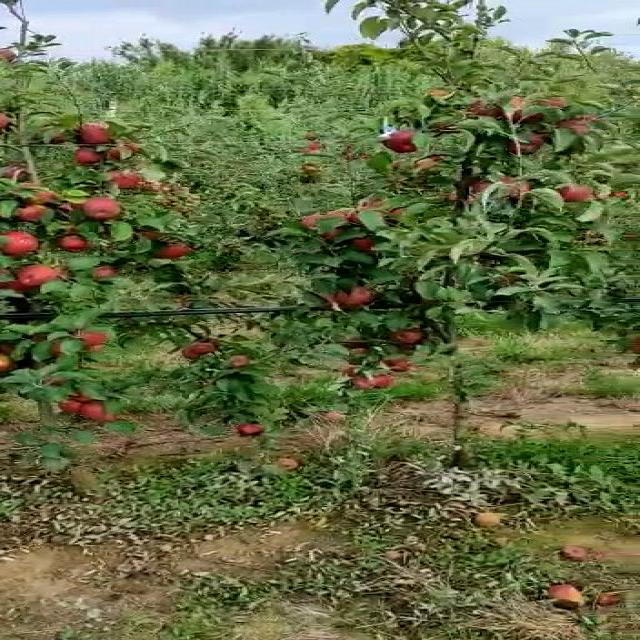100-_ripeness: (11, 263, 58, 288), (478, 177, 536, 197), (349, 368, 398, 391), (498, 98, 542, 123), (80, 323, 122, 348), (2, 229, 40, 256), (80, 398, 122, 421), (382, 128, 424, 151), (334, 288, 376, 310), (554, 180, 594, 202), (74, 122, 112, 145), (84, 196, 122, 219), (554, 117, 604, 134), (351, 197, 396, 215), (516, 133, 544, 159), (18, 201, 51, 222), (300, 214, 338, 232), (395, 326, 429, 346), (156, 241, 191, 260), (109, 169, 142, 188), (62, 231, 89, 250), (75, 143, 100, 163), (182, 341, 209, 359), (347, 235, 375, 251), (93, 264, 122, 279), (62, 396, 93, 410), (235, 421, 267, 434)
